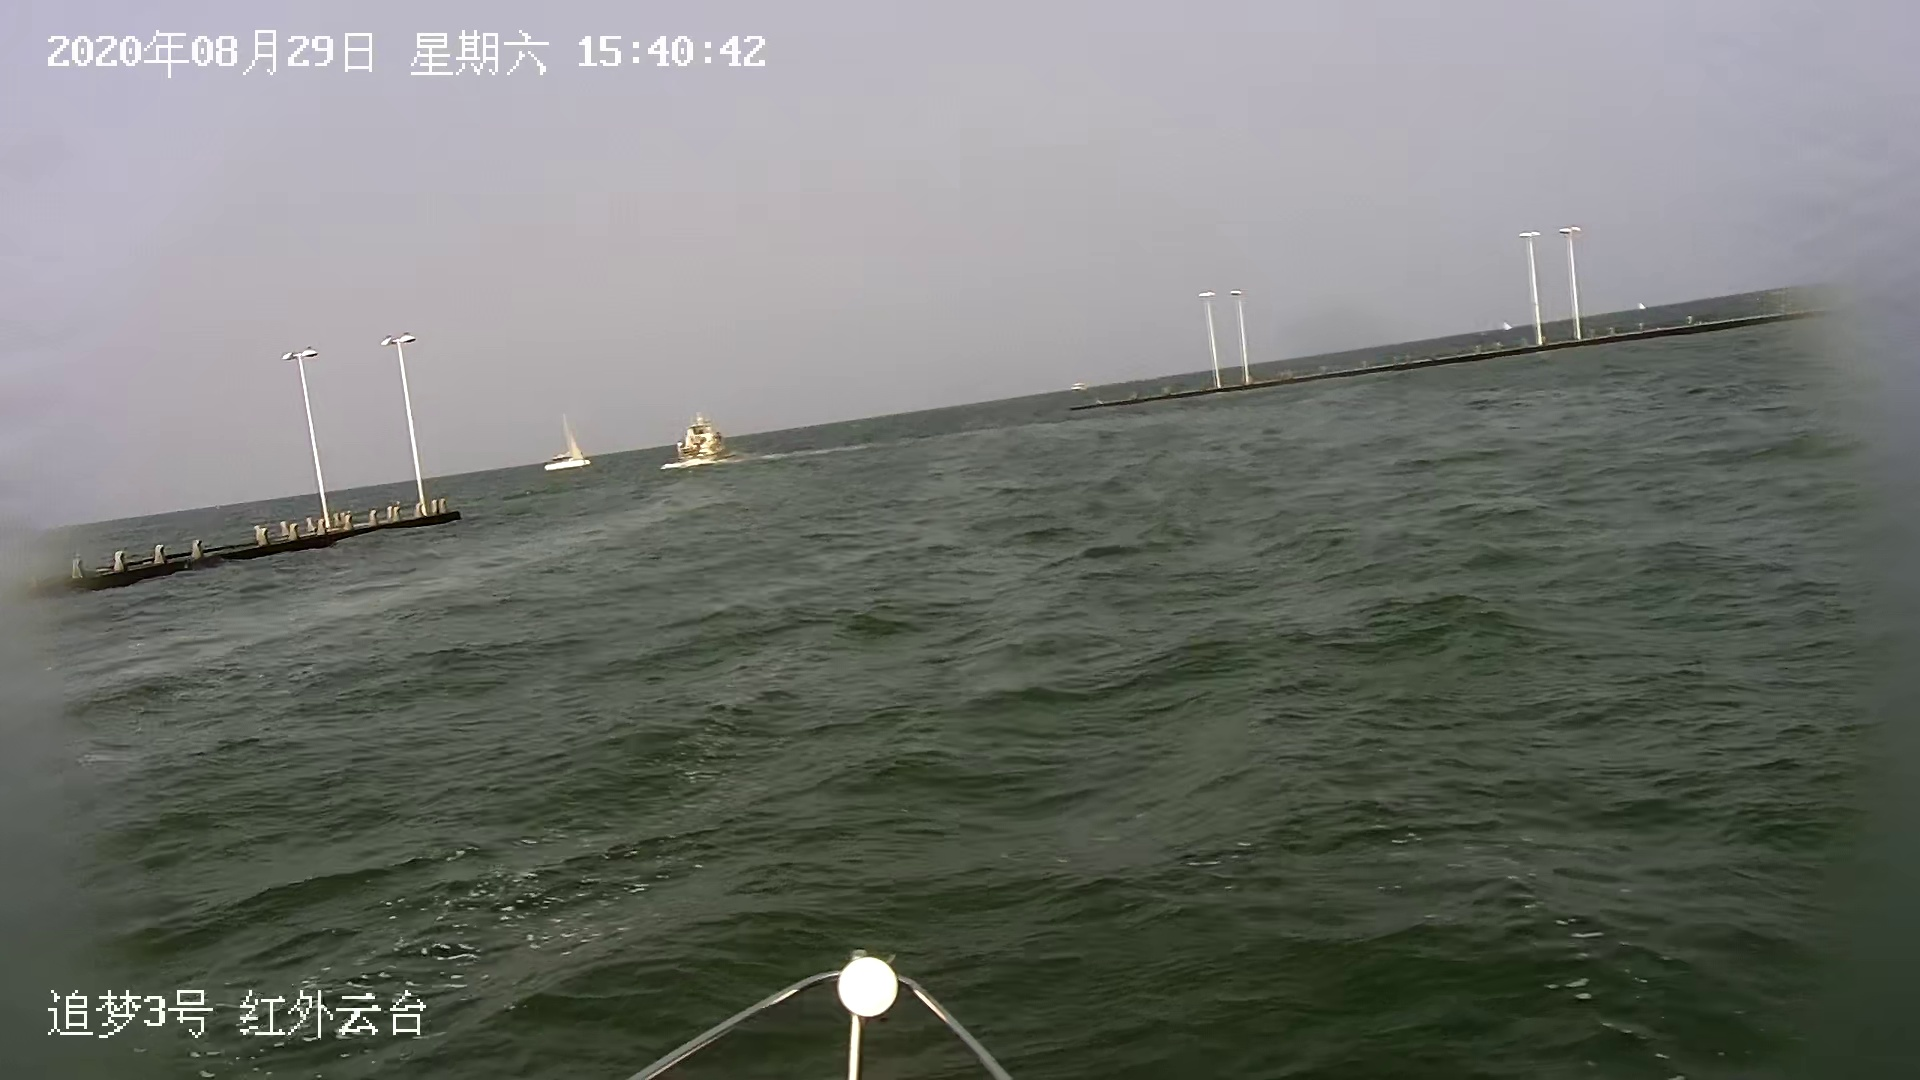barrier: (659, 411, 746, 471), (545, 407, 593, 475), (1068, 381, 1091, 396), (1501, 320, 1516, 334), (1636, 301, 1648, 313)
coast: (1052, 223, 1920, 415), (1, 324, 471, 599)
